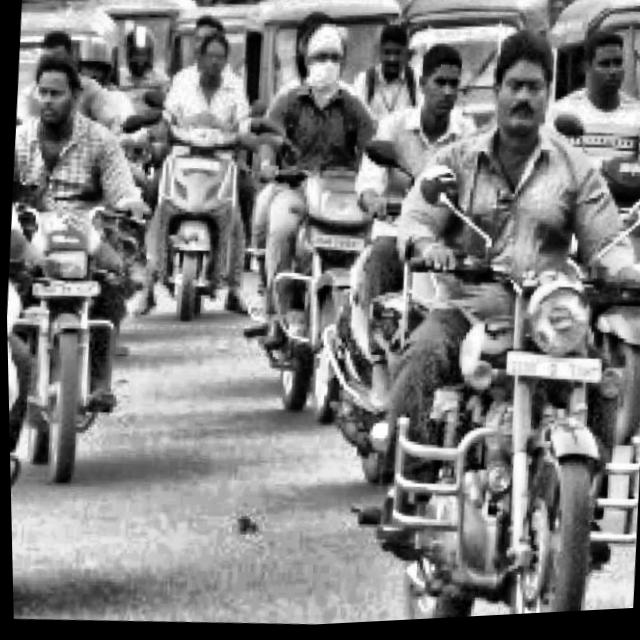motorcycle: (378, 161, 640, 625), (232, 114, 382, 435), (3, 178, 143, 489), (124, 81, 260, 331)
